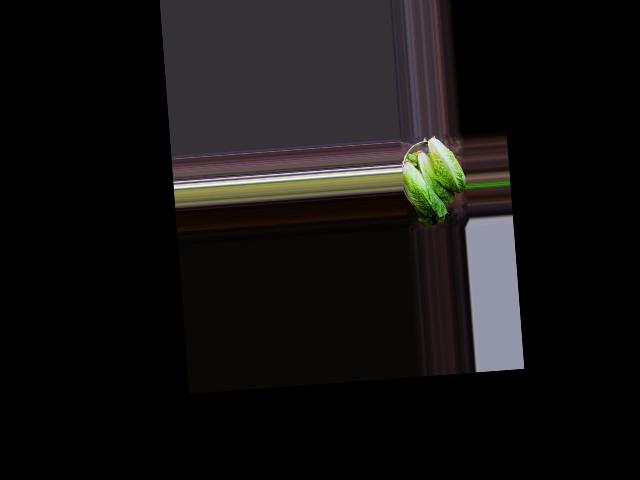lettuce: (400, 151, 449, 225)
